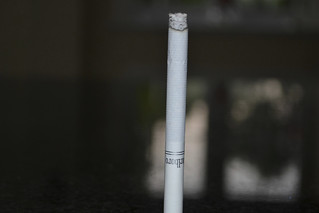cigarette: (162, 10, 192, 213)
